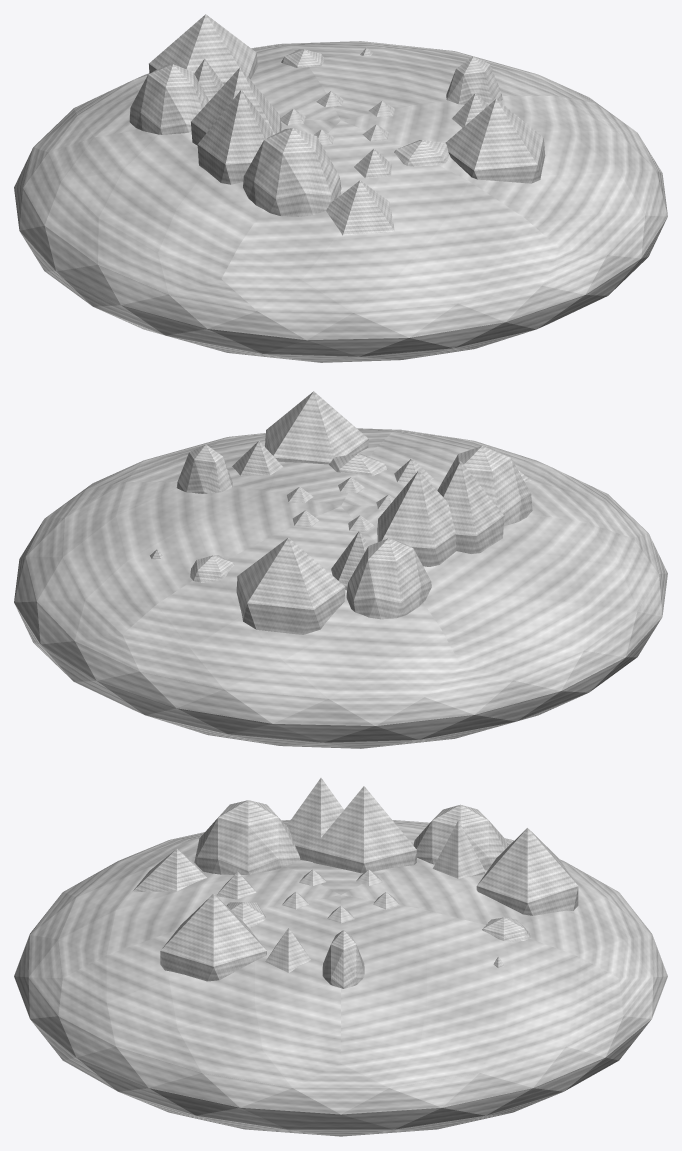
Rendered from coal_node_variant_d.glb.
3 views of the same model, one above another, from view 1: azimuth 30°, elevation 25°; view 2: azimuth 150°, elevation 25°; view 3: azimuth 270°, elevation 25° (orthographic).
Parts seen in each view (by area): view 1: Resource node bedrock.003, Exposed ore formation.043, Exposed ore formation.047, Exposed ore formation.042, Exposed ore formation.040, Exposed ore formation.038, Exposed ore formation.044, Exposed ore formation.041, Exposed ore formation.034, Exposed ore formation.046, Exposed ore formation.045, Exposed ore formation.039 (+2 smaller); view 2: Resource node bedrock.003, Exposed ore formation.038, Exposed ore formation.040, Exposed ore formation.047, Exposed ore formation.041, Exposed ore formation.042, Exposed ore formation.043, Exposed ore formation.034, Exposed ore formation, Exposed ore formation.039, Exposed ore formation.046, Exposed ore formation.037; view 3: Resource node bedrock.003, Exposed ore formation.043, Exposed ore formation.047, Exposed ore formation.038, Exposed ore formation.041, Exposed ore formation.040, Exposed ore formation.042, Exposed ore formation.034, Exposed ore formation.044, Exposed ore formation.039, Exposed ore formation, Exposed ore formation.037 (+2 smaller).
Boxes of the visible parts, x1,y1,x2,y2 form: Resource node bedrock.003: (14, 41, 667, 362); Exposed ore formation.043: (243, 128, 341, 216); Exposed ore formation.047: (445, 99, 545, 183); Exposed ore formation.042: (197, 89, 273, 184); Exposed ore formation.040: (129, 64, 208, 134); Exposed ore formation.038: (149, 14, 257, 84); Exposed ore formation.044: (326, 180, 394, 235); Exposed ore formation.041: (191, 67, 281, 145); Exposed ore formation.034: (446, 56, 502, 104); Exposed ore formation.046: (394, 140, 450, 166); Exposed ore formation.045: (354, 148, 391, 178); Exposed ore formation.039: (194, 58, 223, 100); Resource node bedrock.003: (14, 428, 667, 748); Exposed ore formation.038: (236, 537, 345, 634); Exposed ore formation.040: (346, 538, 431, 619); Exposed ore formation.047: (265, 391, 368, 464); Exposed ore formation.041: (377, 470, 456, 566); Exposed ore formation.042: (438, 461, 504, 553); Exposed ore formation.043: (437, 446, 532, 526); Exposed ore formation.034: (176, 444, 232, 493); Exposed ore formation: (232, 441, 283, 475); Exposed ore formation.039: (331, 531, 369, 590); Exposed ore formation.046: (329, 453, 388, 475); Exposed ore formation.037: (190, 555, 234, 582); Resource node bedrock.003: (14, 819, 667, 1136); Exposed ore formation.043: (194, 800, 300, 874); Exposed ore formation.047: (160, 893, 266, 981); Exposed ore formation.038: (476, 828, 578, 915); Exposed ore formation.041: (311, 786, 416, 873); Exposed ore formation.040: (413, 804, 507, 870); Exposed ore formation.042: (286, 777, 343, 861); Exposed ore formation.034: (322, 930, 364, 988); Exposed ore formation.044: (132, 849, 206, 892); Exposed ore formation.039: (432, 820, 485, 878); Exposed ore formation: (265, 928, 310, 972); Exposed ore formation.037: (482, 917, 530, 941).
Size of what is drawn, in the model's own units: 6.2 by 2.39 by 6.2.
2 materials, 2 textured.
